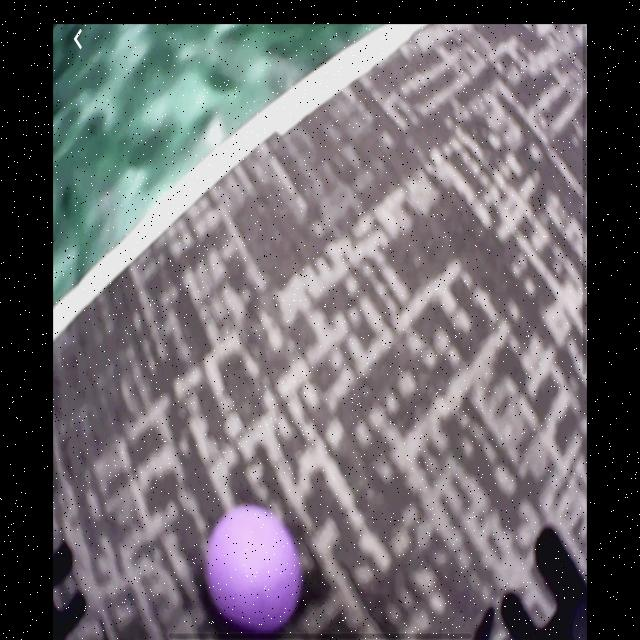ball: (206, 496, 304, 629)
